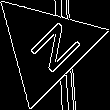N_SW: (14, 14, 79, 79)
